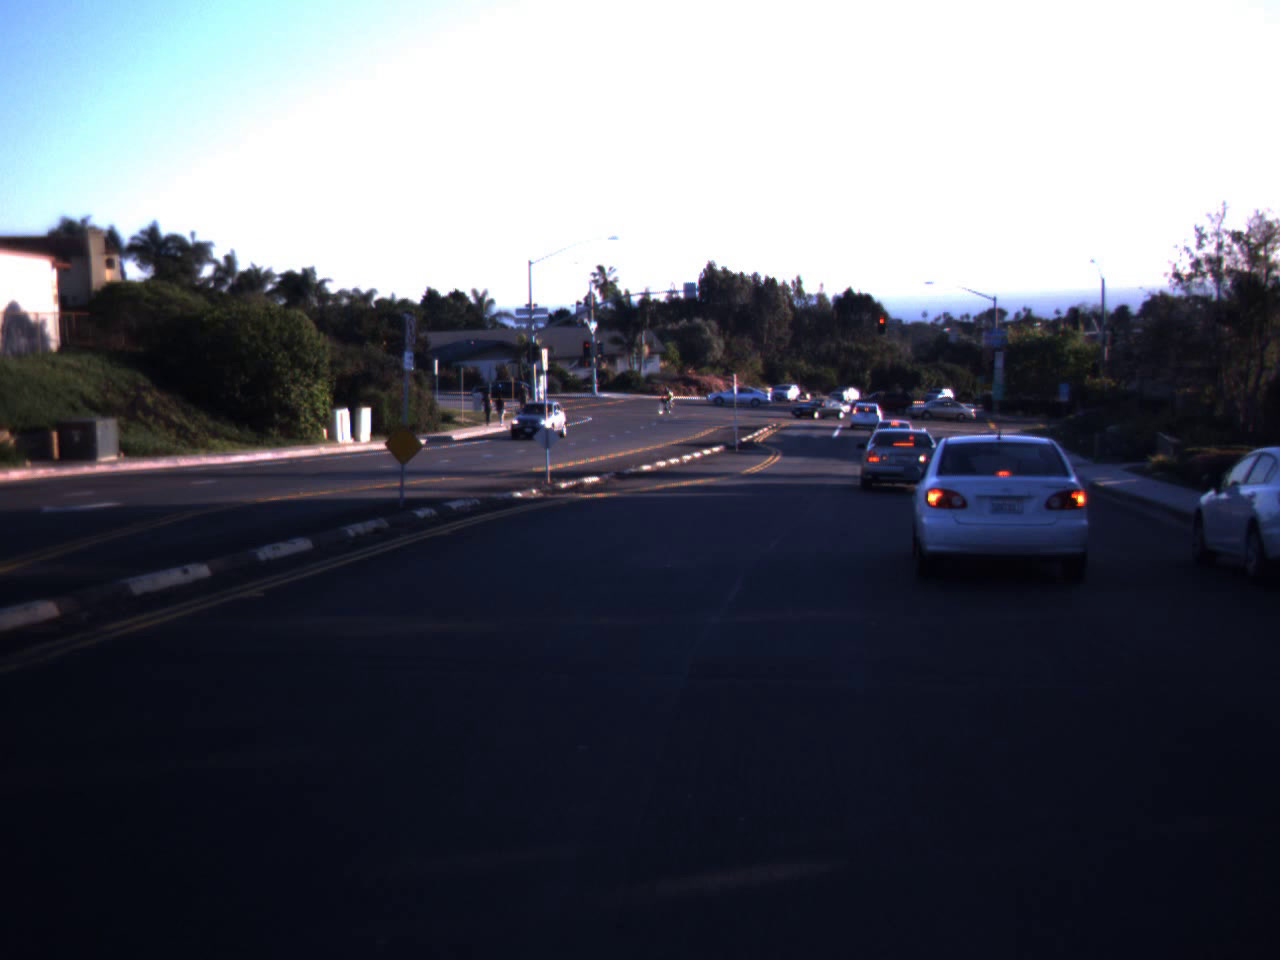stop: (875, 317, 887, 335)
